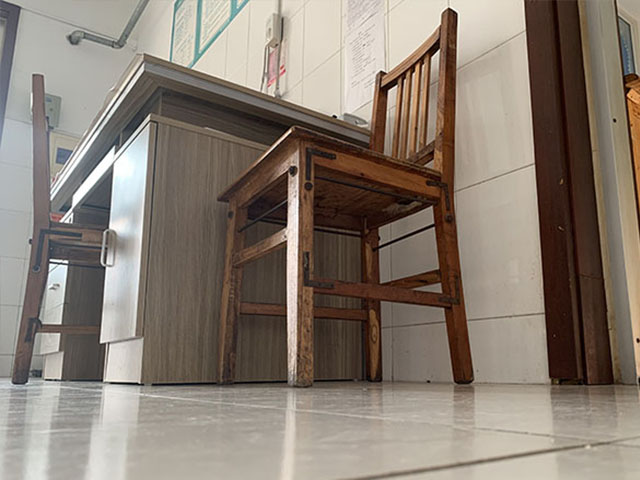stool: (211, 4, 476, 387), (9, 73, 108, 386)
table: (35, 49, 374, 387)
